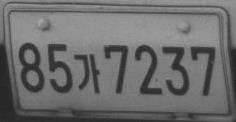2: (134, 43, 162, 95)
3: (163, 46, 189, 95)
5: (46, 43, 73, 94)
7: (103, 43, 129, 94), (190, 45, 215, 95)
8: (17, 41, 44, 92)
가: (74, 53, 100, 94)
